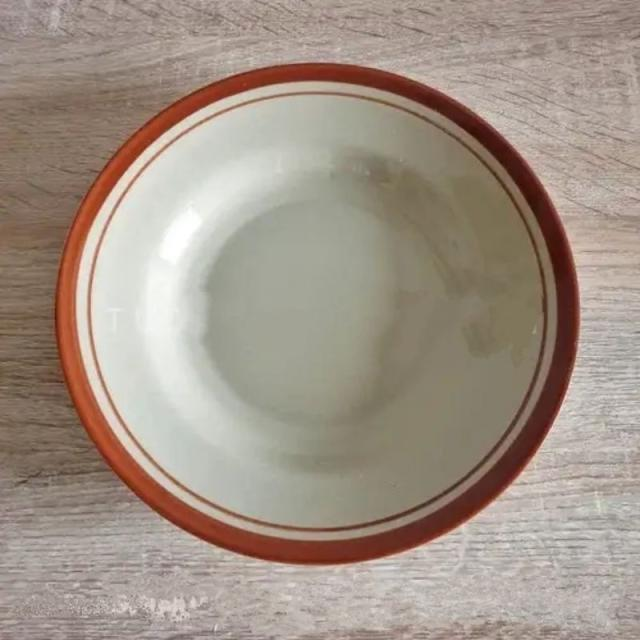Piring: (50, 49, 600, 574)
